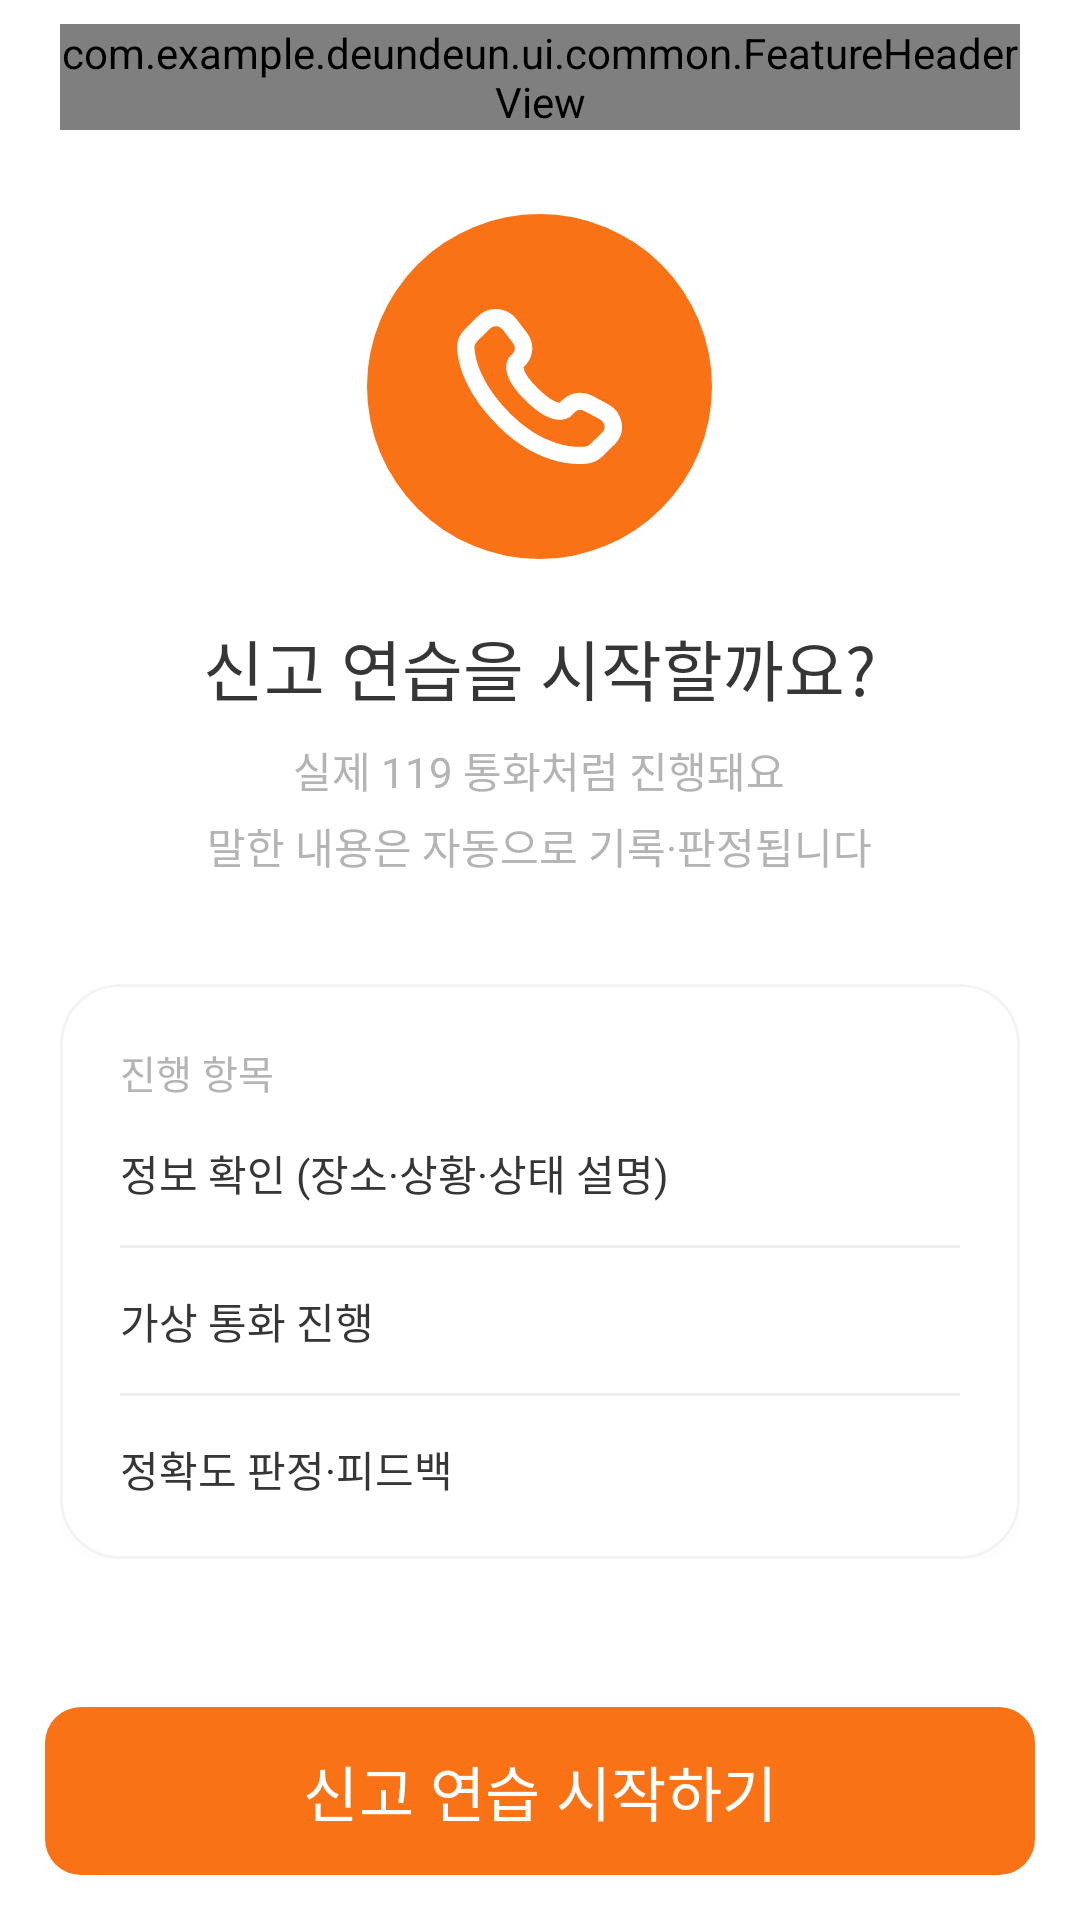

Where icons sit on this 1080x1920 app screen, as rect(x1, y1, x2, y2):
phone: rect(367, 214, 712, 559)
